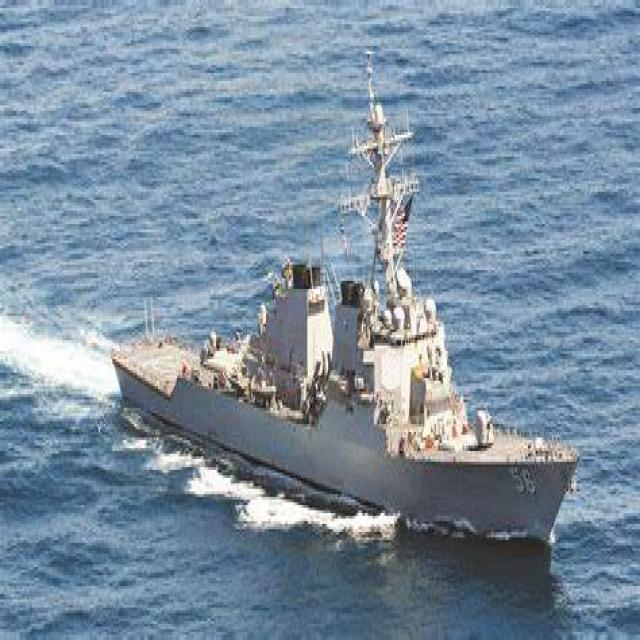navalvessels: (113, 110, 572, 556)
